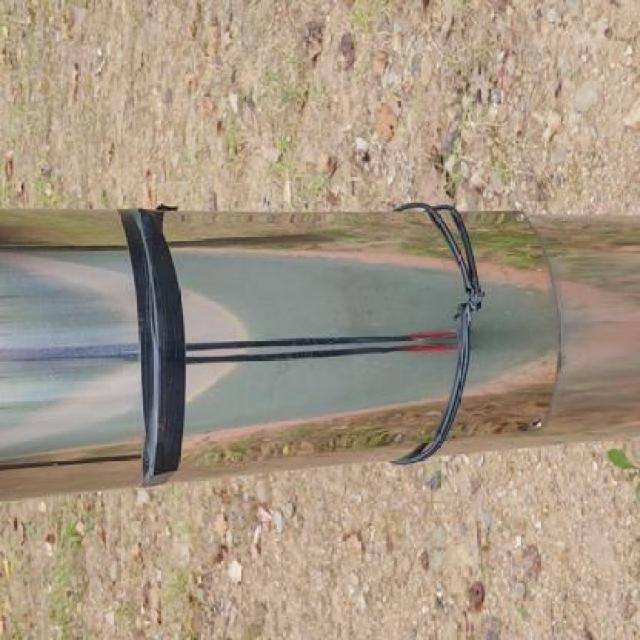pole: (0, 186, 640, 512)
